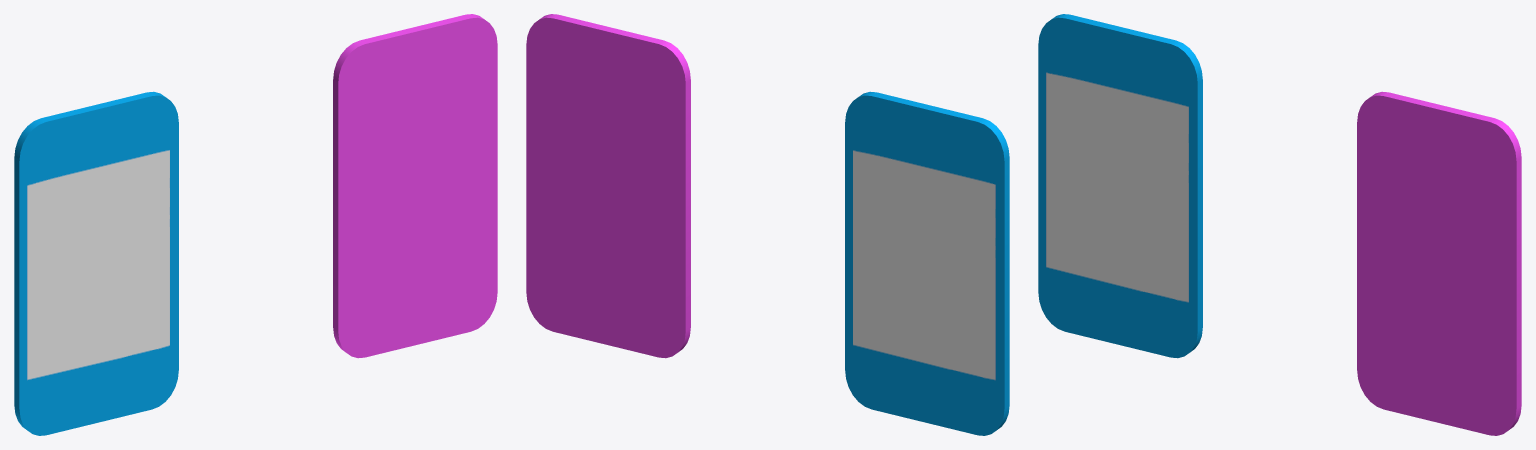
File: cardsParticle.fbx
3 renders of one model, left to right at view 1: azimuth 30°, elevation 25°; view 2: azimuth 150°, elevation 25°; view 3: azimuth 330°, elevation 25°, orthographic.
Parts seen in each view (by area): view 1: Cube, Cube.001; view 2: Cube, Cube.001; view 3: Cube, Cube.001.
Boxes of the visible parts, x1=… form: Cube: x1=14, y1=91, x2=178, y2=435; Cube.001: x1=333, y1=14, x2=497, y2=358; Cube: x1=845, y1=91, x2=1009, y2=435; Cube.001: x1=526, y1=14, x2=690, y2=358; Cube: x1=1038, y1=14, x2=1202, y2=358; Cube.001: x1=1357, y1=91, x2=1521, y2=435.
Bounding box in the file's own units: 6 × 3.76 × 0.1109.
2 materials, 2 textured.
